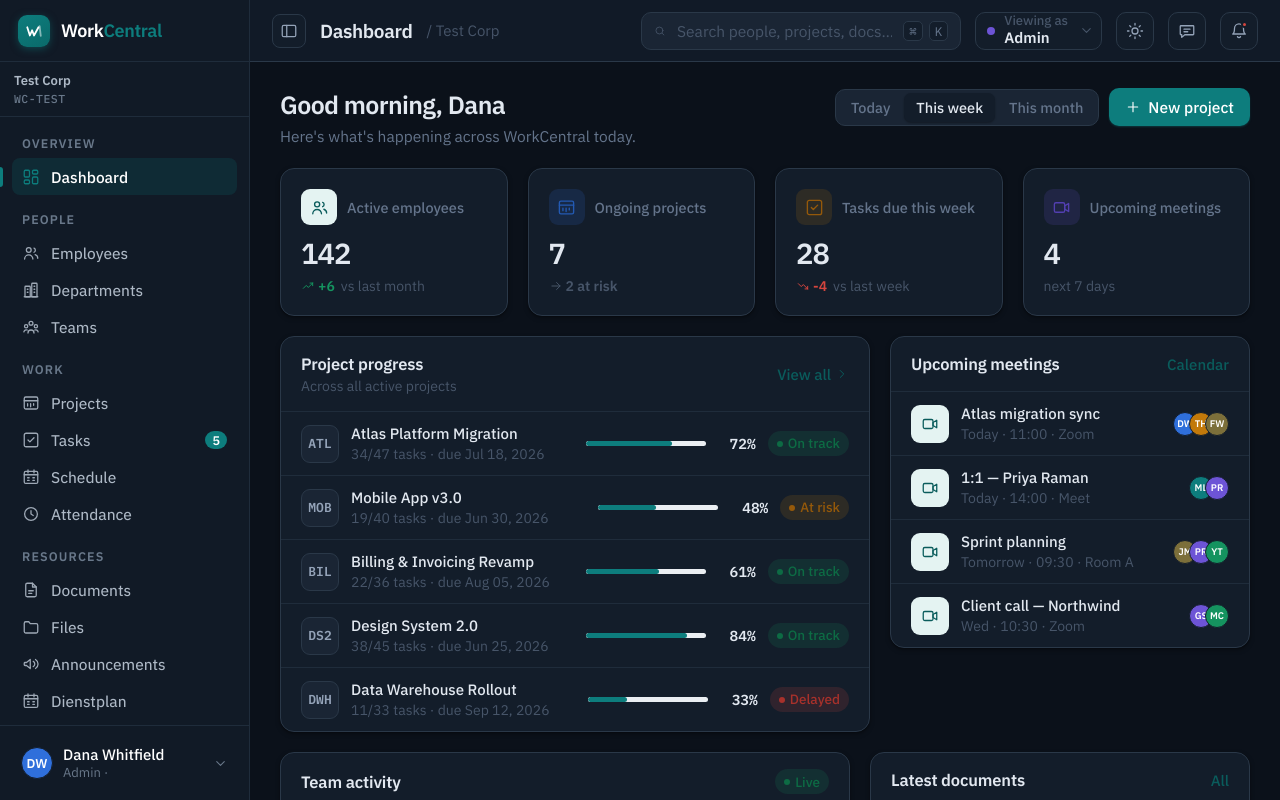
Test: App role-based behavior › role-switcher "Employee" shows LockedPage for invoices
This screenshot has width=1280, height=800.
Click the element with class "role-switch": (1039, 30) [975,12,1102,50]
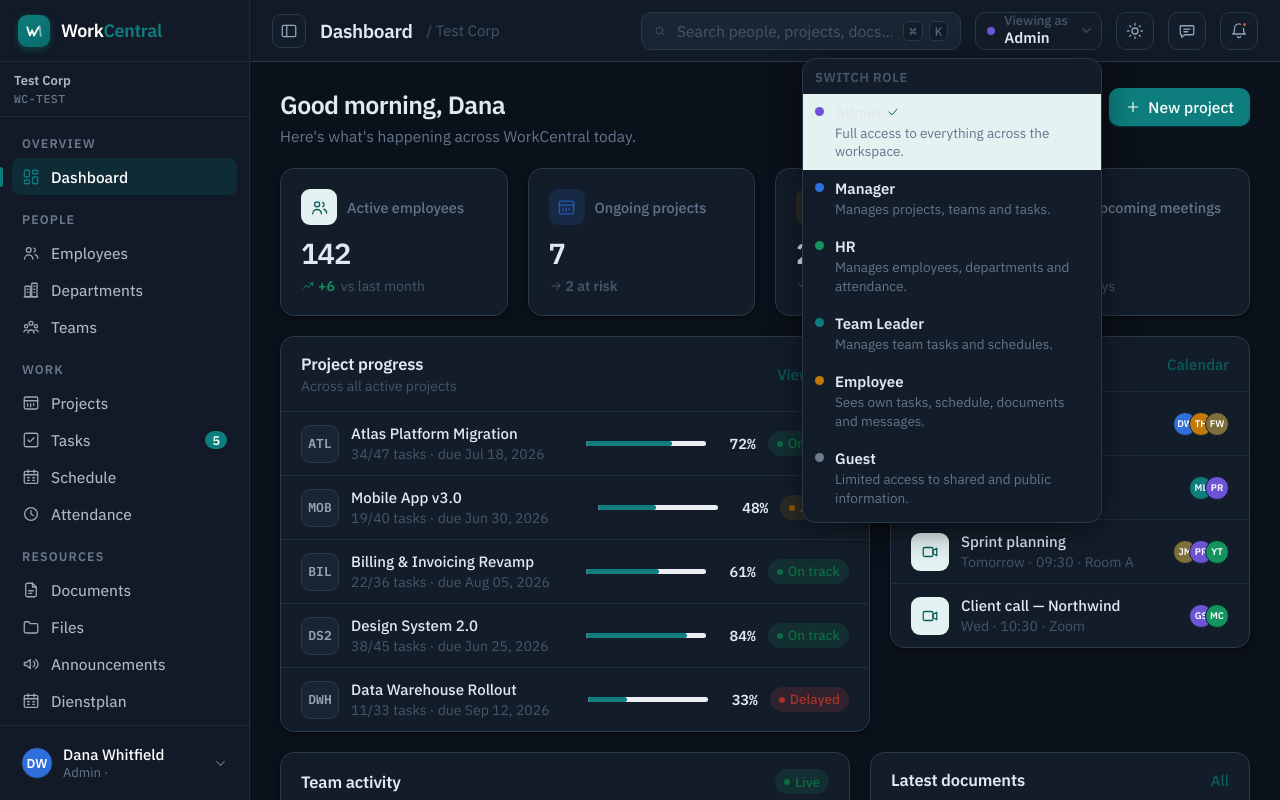
Click the text "Employee": (869, 381) [835,372,904,391]
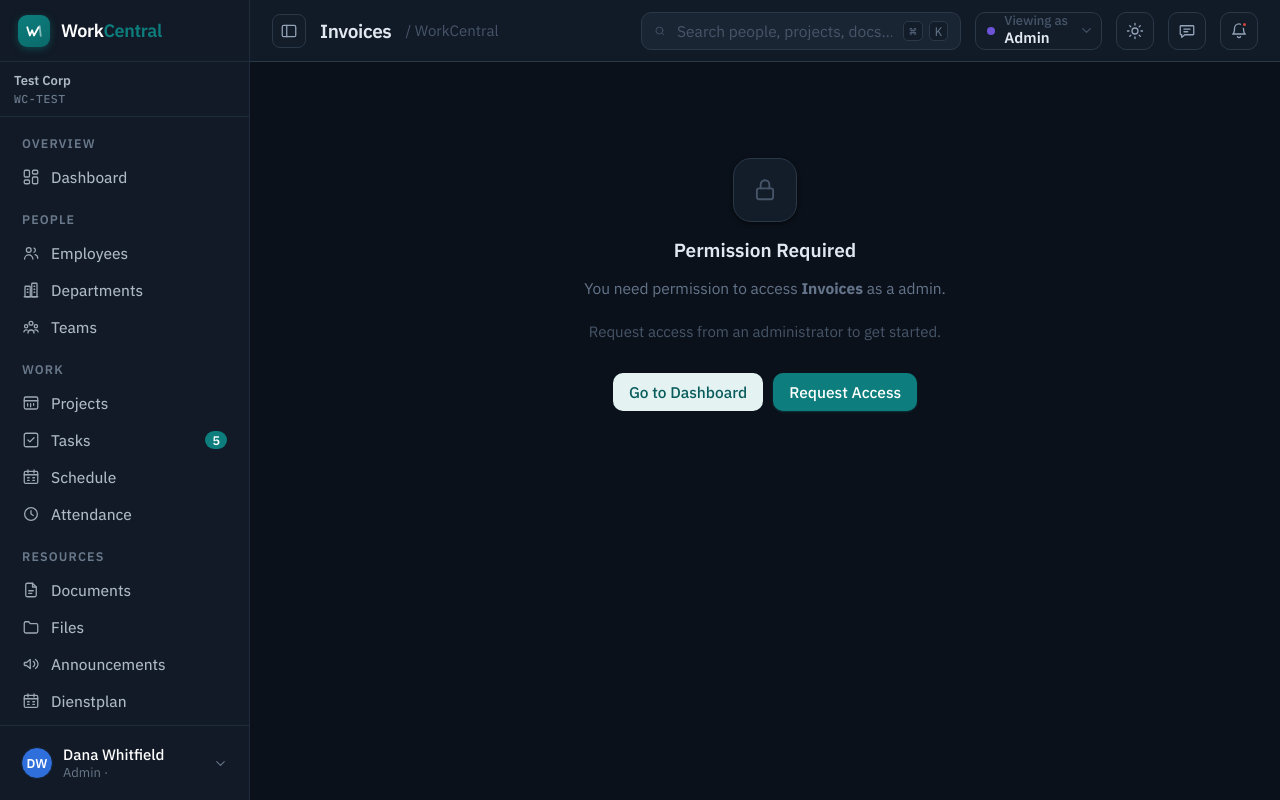
Now the heading "Permission Required" is shown, box [674,238,856,262]
